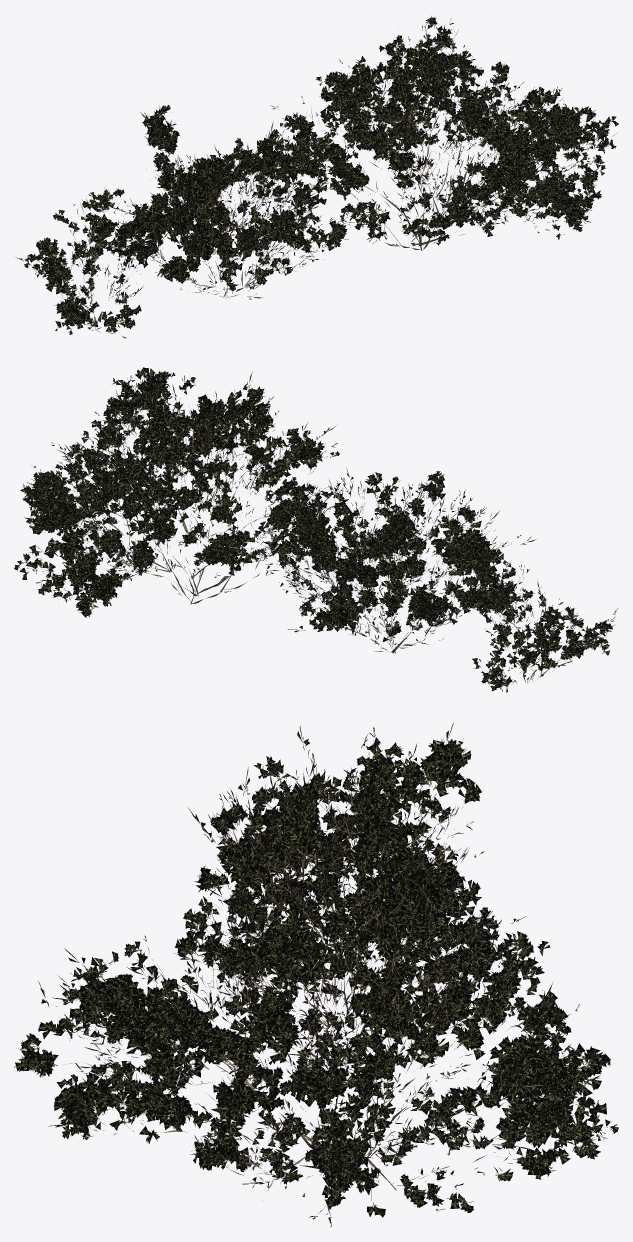
Rendered from searsia_burchellii.gltf.
3 renders of one model, top to bottom at view 1: azimuth 30°, elevation 25°; view 2: azimuth 150°, elevation 25°; view 3: azimuth 270°, elevation 25°, orthographic. The views are drawn at different scales.
Visible parts, largest first — view 1: searsia_burchellii_large_LOD0, searsia_burchellii_medium_LOD0, searsia_burchellii_small_LOD0; view 2: searsia_burchellii_large_LOD0, searsia_burchellii_medium_LOD0, searsia_burchellii_small_LOD0; view 3: searsia_burchellii_large_LOD0, searsia_burchellii_medium_LOD0, searsia_burchellii_small_LOD0.
Boxes of the visible parts, x1=… form: searsia_burchellii_large_LOD0: x1=270, y1=16, x2=618, y2=250; searsia_burchellii_medium_LOD0: x1=111, y1=105, x2=354, y2=299; searsia_burchellii_small_LOD0: x1=16, y1=187, x2=143, y2=338; searsia_burchellii_large_LOD0: x1=14, y1=367, x2=339, y2=617; searsia_burchellii_medium_LOD0: x1=277, y1=467, x2=536, y2=653; searsia_burchellii_small_LOD0: x1=462, y1=551, x2=618, y2=692; searsia_burchellii_large_LOD0: x1=14, y1=856, x2=618, y2=1226; searsia_burchellii_medium_LOD0: x1=173, y1=722, x2=484, y2=1061; searsia_burchellii_small_LOD0: x1=218, y1=727, x2=469, y2=925.
Bounding box in the file's own units: 8.34 × 3.19 × 5.03.
3 materials, 3 textured.
